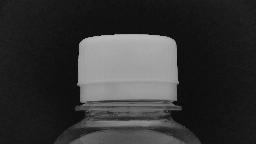Good Cap: (65, 30, 189, 114)
